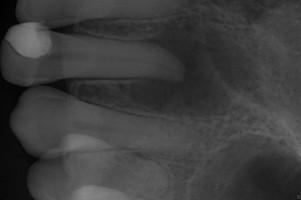Furcation Involvement: (121, 21, 233, 119)
